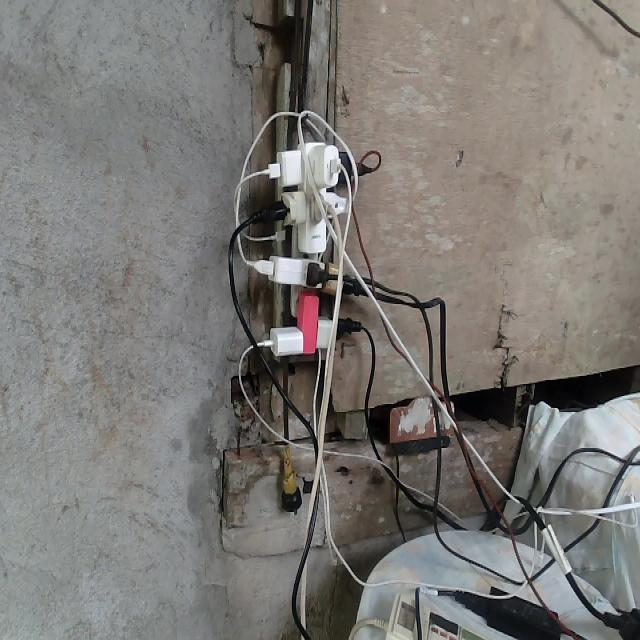-: (226, 89, 408, 372)
